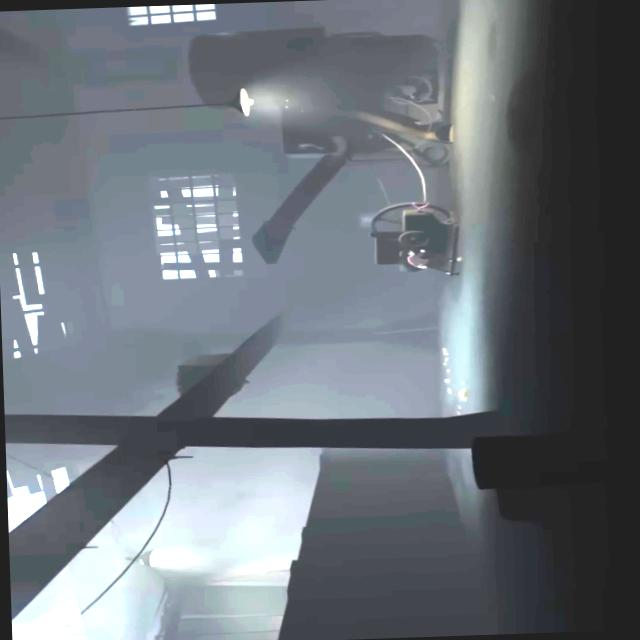boy: (397, 247, 454, 278)
